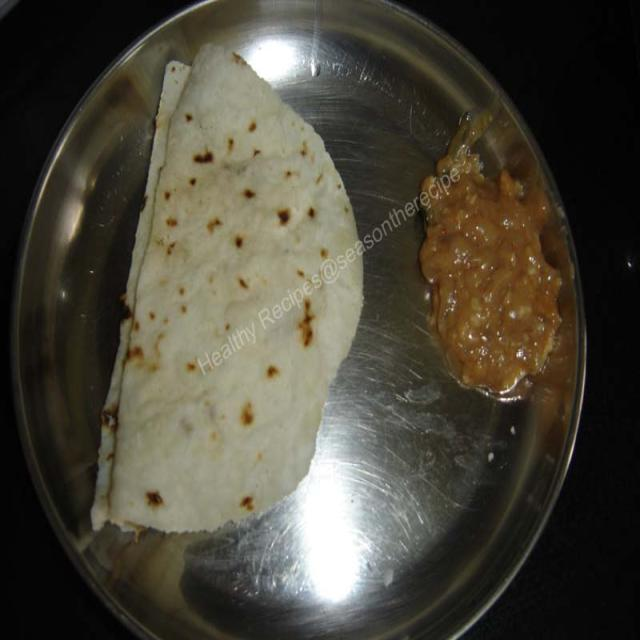ROTI: (91, 48, 361, 530)
